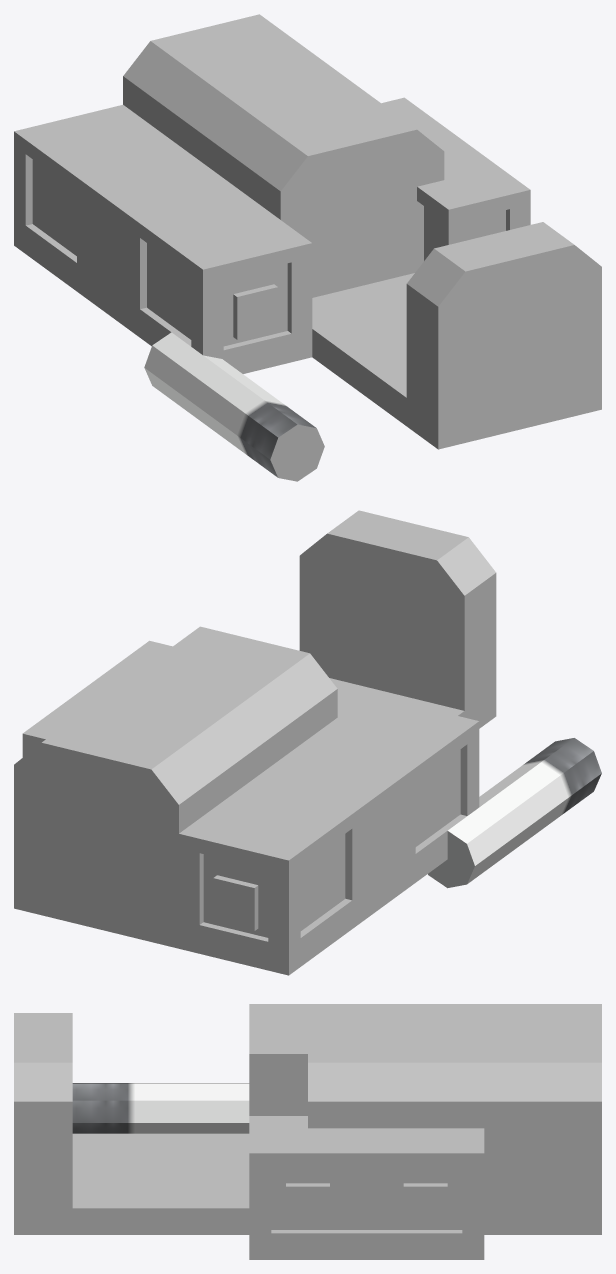
The model's file is rollingmachine.obj.
3 renders of one model, top to bottom at view 1: azimuth 30°, elevation 25°; view 2: azimuth 150°, elevation 25°; view 3: azimuth 270°, elevation 25°, orthographic. The views are drawn at different scales.
Parts seen in each view (by area): view 1: Hull, roller_3; view 2: Hull, roller_3; view 3: Hull, roller_3.
Part boxes in pixels (left/top/right/bottom): Hull: left=14, top=14, right=601, bottom=449; roller_3: left=144, top=332, right=324, bottom=481; Hull: left=14, top=510, right=496, bottom=975; roller_3: left=428, top=738, right=601, bottom=888; Hull: left=14, top=1004, right=601, bottom=1259; roller_3: left=72, top=1083, right=249, bottom=1133.
Bounding box in the file's own units: 3.25 × 1.75 × 5.
